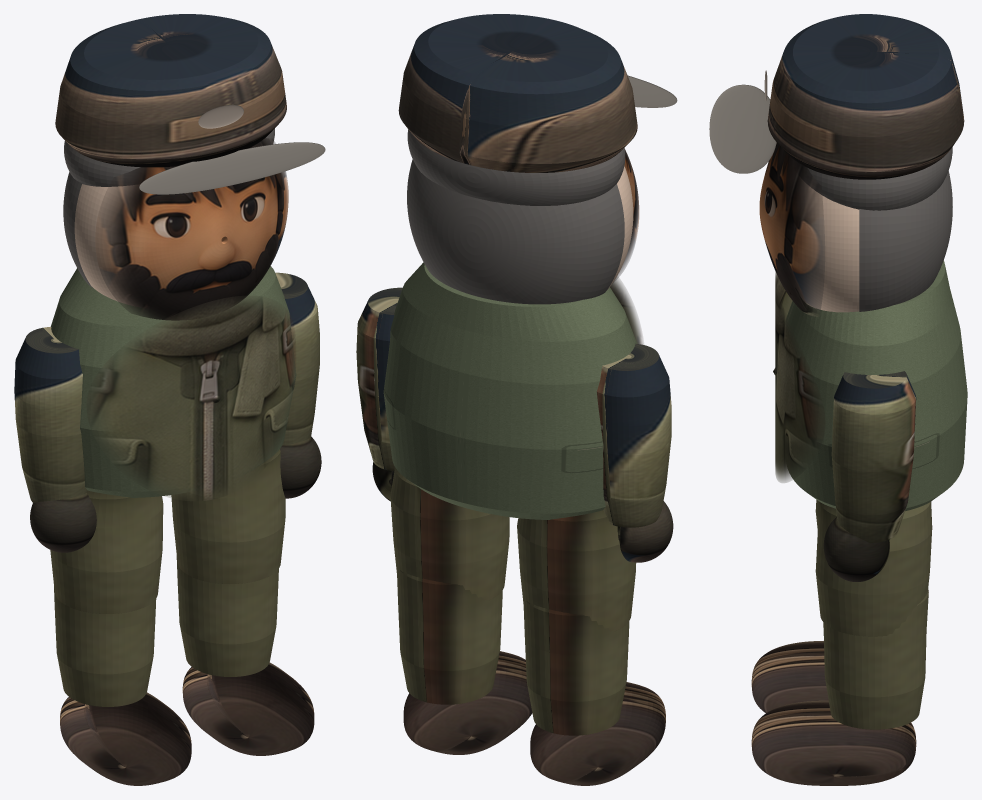
File: afterday_survivor_procedural_v200.glb
The picture shows the model from 3 angles, left to right: view 1: azimuth 30°, elevation 25°; view 2: azimuth 150°, elevation 25°; view 3: azimuth 270°, elevation 25°; orthographic projection. The views are drawn at different scales.
Visible parts, largest first — view 1: reference jacket graphics on curved torso_03, structured cap crown_08, approved face texture on one curved mesh_05, clean continuous olive jacket_00, single compact upper trouser_19, single continuous short coat sleeve_12, single compact upper trouser_16, weathered thick sole boot_18, weathered thick sole boot_21, single straight lower trouser_17, single straight lower trouser_20, single rounded human head_04 (+7 smaller); view 2: clean continuous olive jacket_00, structured cap crown_08, single clean rear hairstyle shell_07, single straight lower trouser_17, single straight lower trouser_20, single continuous short coat sleeve_12, single compact upper trouser_16, single compact upper trouser_19, weathered thick sole boot_18, weathered thick sole boot_21, compact dark hair behind cap_06, single continuous short coat sleeve_14 (+5 smaller); view 3: structured cap crown_08, clean continuous olive jacket_00, single continuous short coat sleeve_14, weathered thick sole boot_21, single straight lower trouser_20, single compact upper trouser_19, single clean rear hairstyle shell_07, approved face texture on one curved mesh_05, single rounded human head_04, reference jacket graphics on curved torso_03, visor thin edge_10, weathered thick sole boot_18 (+2 smaller).
Boxes of the visible parts, x1,y1,x2,y2 form: reference jacket graphics on curved torso_03: [88, 296, 295, 500]; structured cap crown_08: [55, 14, 286, 167]; approved face texture on one curved mesh_05: [96, 138, 288, 320]; clean continuous olive jacket_00: [50, 266, 296, 497]; single compact upper trouser_19: [171, 449, 285, 583]; single continuous short coat sleeve_12: [14, 327, 87, 503]; single compact upper trouser_16: [50, 490, 163, 613]; weathered thick sole boot_18: [60, 692, 191, 785]; weathered thick sole boot_21: [182, 662, 314, 755]; single straight lower trouser_17: [54, 586, 156, 706]; single straight lower trouser_20: [176, 556, 278, 676]; single rounded human head_04: [74, 184, 143, 307]; clean continuous olive jacket_00: [383, 262, 636, 519]; structured cap crown_08: [398, 14, 637, 172]; single clean rear hairstyle shell_07: [407, 159, 624, 304]; single straight lower trouser_17: [523, 601, 629, 735]; single straight lower trouser_20: [397, 570, 502, 704]; single continuous short coat sleeve_12: [597, 343, 671, 527]; single compact upper trouser_16: [517, 510, 636, 631]; single compact upper trouser_19: [390, 467, 509, 600]; weathered thick sole boot_18: [530, 682, 665, 785]; weathered thick sole boot_21: [403, 651, 532, 754]; compact dark hair behind cap_06: [407, 129, 625, 205]; single continuous short coat sleeve_14: [356, 287, 402, 471]; structured cap crown_08: [767, 14, 964, 179]; clean continuous olive jacket_00: [784, 260, 967, 511]; single continuous short coat sleeve_14: [831, 371, 916, 543]; weathered thick sole boot_21: [751, 700, 916, 785]; single straight lower trouser_20: [823, 589, 928, 729]; single compact upper trouser_19: [815, 501, 932, 636]; single clean rear hairstyle shell_07: [859, 171, 952, 311]; approved face texture on one curved mesh_05: [759, 142, 824, 316]; single rounded human head_04: [801, 179, 859, 312]; reference jacket graphics on curved torso_03: [773, 272, 824, 482]; visor thin edge_10: [709, 84, 776, 173]; weathered thick sole boot_18: [751, 641, 828, 712].
Size of the model in its own units: 1.49 by 3.35 by 1.14.
14 materials, 9 textured.
